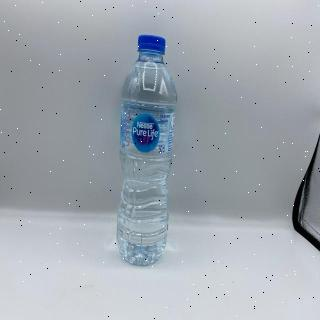Plastic-bottle: (113, 22, 183, 276)
